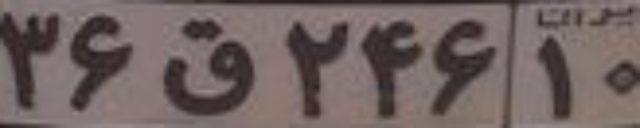0: (592, 59, 637, 95)
1: (535, 35, 573, 117)
2: (282, 18, 350, 117)
3: (0, 9, 58, 109)
4: (360, 17, 422, 118)
6: (430, 21, 499, 117), (66, 13, 133, 111)
ghaf: (164, 17, 254, 117)
